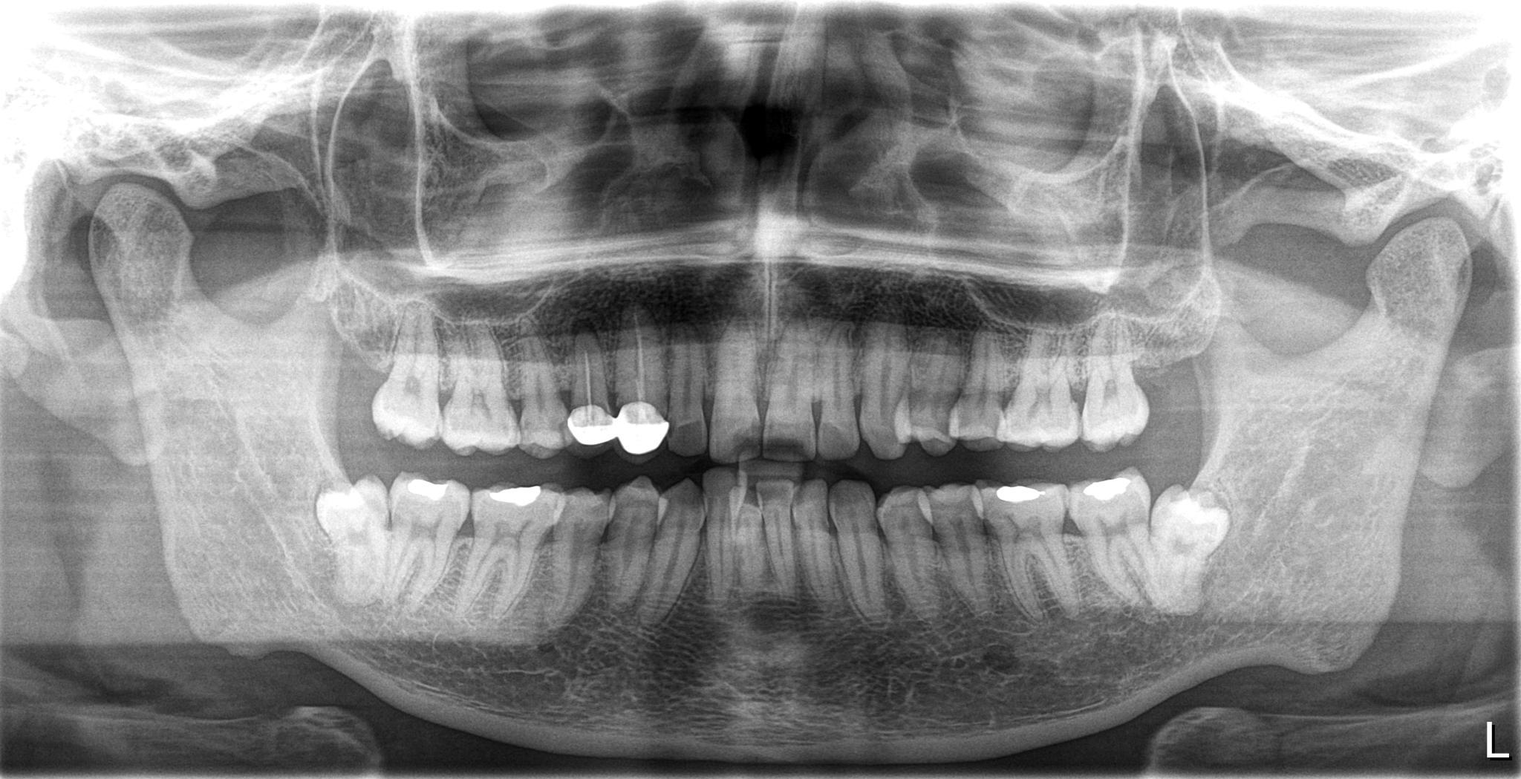Dental Caries: (895, 392, 950, 443)
Endodontically Treated Tooth: (568, 332, 617, 455), (624, 329, 669, 453)
Impacted Third Molar: (1147, 490, 1229, 609), (306, 475, 382, 593)
Missing Tooth: (1141, 336, 1205, 447), (325, 321, 374, 441)
